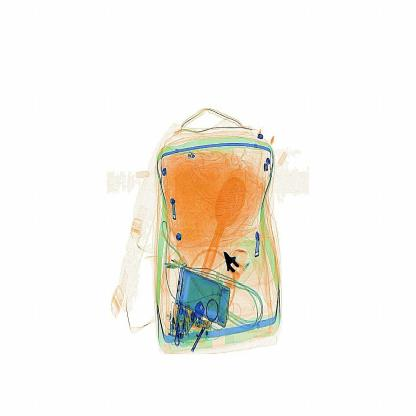gun: (214, 235, 250, 288)
